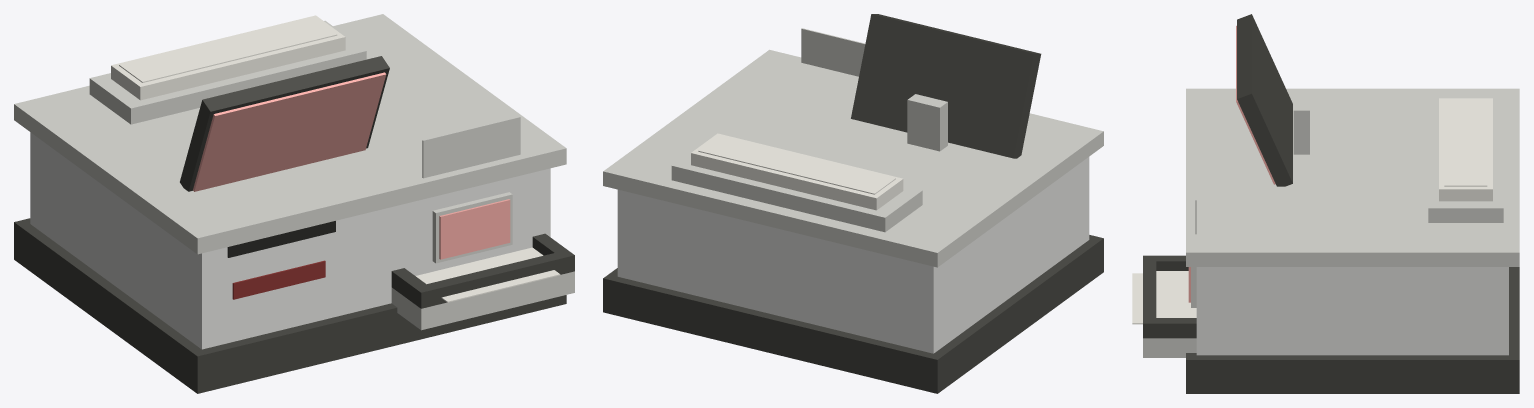
File: print_preview.obj
3 renders of one model, left to right at view 1: azimuth 30°, elevation 25°; view 2: azimuth 150°, elevation 25°; view 3: azimuth 270°, elevation 25°, orthographic. The views are drawn at different scales.
Parts seen in each view (by area): view 1: print_preview_e02, print_preview_e01, print_preview_e00, print_preview_e04, print_preview_e12, print_preview_e14, print_preview_e03, print_preview_e13, print_preview_e06, print_preview_e15, print_preview_e17, print_preview_e09 (+7 smaller); view 2: print_preview_e01, print_preview_e02, print_preview_e00, print_preview_e03, print_preview_e12, print_preview_e14, print_preview_e13, print_preview_e15, print_preview_e05; view 3: print_preview_e02, print_preview_e01, print_preview_e00, print_preview_e03, print_preview_e14, print_preview_e12, print_preview_e13, print_preview_e10, print_preview_e08, print_preview_e06, print_preview_e05, print_preview_e11 (+2 smaller).
Part boxes in pixels (x1,y1,x2,y2): print_preview_e02: [14, 14, 566, 254]; print_preview_e01: [30, 132, 550, 349]; print_preview_e00: [14, 218, 566, 393]; print_preview_e04: [193, 72, 386, 191]; print_preview_e12: [89, 20, 366, 124]; print_preview_e14: [119, 17, 337, 82]; print_preview_e03: [180, 56, 389, 191]; print_preview_e13: [111, 15, 345, 100]; print_preview_e06: [391, 271, 574, 330]; print_preview_e15: [422, 116, 520, 178]; print_preview_e17: [439, 199, 510, 259]; print_preview_e09: [414, 250, 574, 308]; print_preview_e01: [617, 157, 1089, 353]; print_preview_e02: [603, 49, 1103, 267]; print_preview_e00: [603, 235, 1103, 393]; print_preview_e03: [851, 14, 1041, 158]; print_preview_e12: [671, 138, 922, 232]; print_preview_e14: [698, 135, 895, 194]; print_preview_e13: [691, 133, 903, 210]; print_preview_e15: [801, 28, 865, 76]; print_preview_e05: [907, 94, 947, 151]; print_preview_e02: [1186, 88, 1519, 266]; print_preview_e01: [1196, 267, 1508, 355]; print_preview_e00: [1186, 267, 1519, 393]; print_preview_e03: [1237, 14, 1292, 186]; print_preview_e14: [1444, 99, 1487, 186]; print_preview_e12: [1428, 103, 1503, 222]; print_preview_e13: [1439, 98, 1492, 201]; print_preview_e10: [1156, 271, 1196, 317]; print_preview_e08: [1143, 318, 1196, 338]; print_preview_e06: [1143, 338, 1196, 357]; print_preview_e05: [1293, 95, 1309, 154]; print_preview_e11: [1132, 273, 1164, 324].
Size of the model in its own units: 0.9 by 0.6006 by 0.9.
